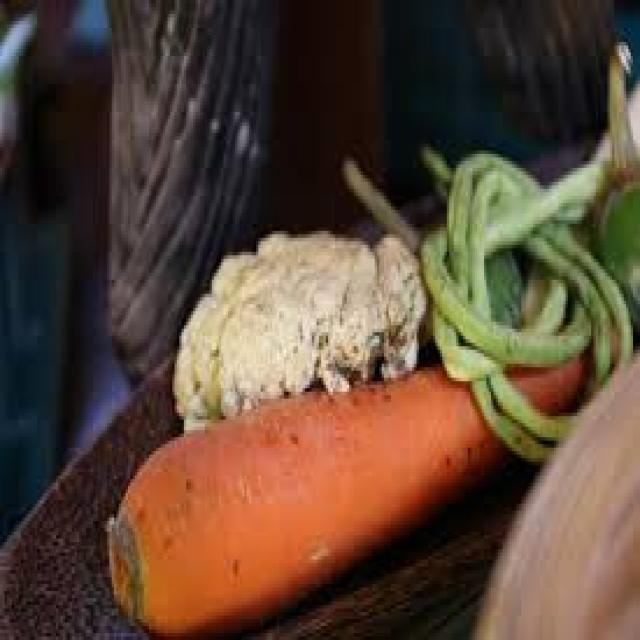organic waste: (105, 332, 577, 637), (419, 140, 631, 462), (167, 220, 426, 430), (588, 45, 638, 350)
